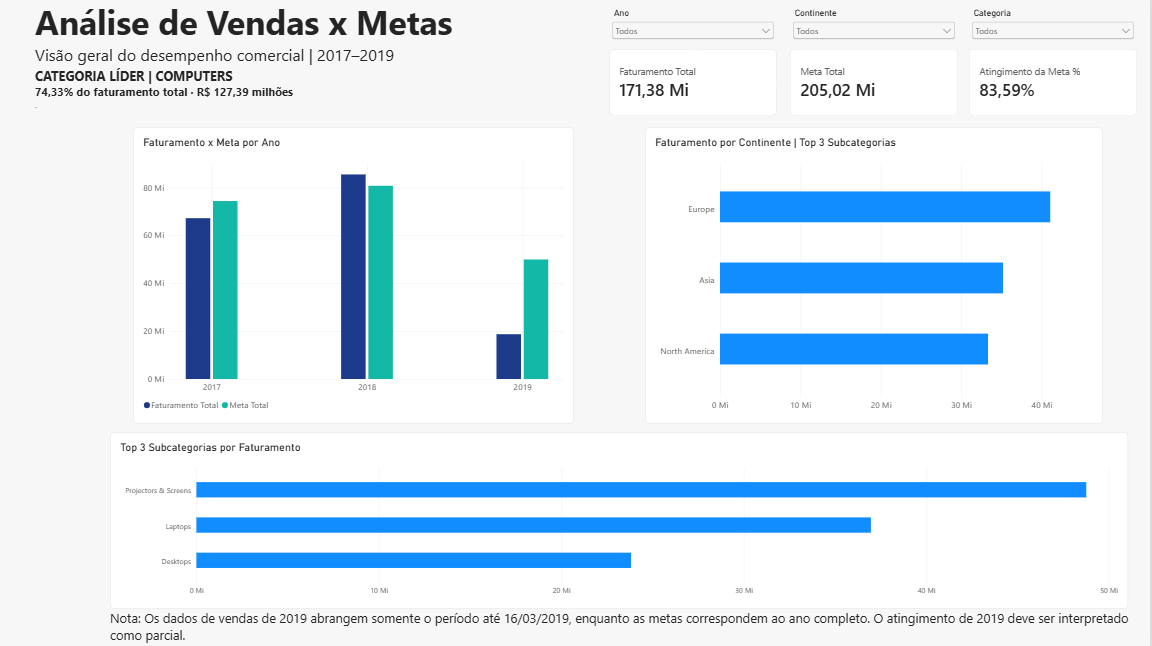

Layout of this report page (visuals, bound fields, positions):
{"tool":"powerbi","page":{"name":"01 - Visão Geral ","canvas":[1920,1080],"ordinal":0},"visuals":[{"type":"cardVisual","fields":{"Data":["Calendario.Faturamento Total"]},"box":[1018.3,83.3,280,111.7],"z":0},{"type":"cardVisual","fields":{"Data":["Calendario.Meta Total"]},"box":[1320,83.3,280,111.7],"z":1000},{"type":"cardVisual","fields":{"Data":["Calendario.Atingimento da Meta %"]},"box":[1618.3,83.3,280,111.7],"z":2000},{"type":"slicer","fields":{"Values":["DimAno.Ano"]},"box":[1018.3,15,280,86.7],"z":3000},{"type":"clusteredColumnChart","title":"Faturamento x Meta por Ano","fields":{"Category":["DimAno.Ano"],"Y":["Calendario.Faturamento Total","Calendario.Meta Total"]},"box":[225,213.3,735,495],"z":4000},{"type":"clusteredBarChart","title":"Faturamento por Continente | Top 3 Subcategorias","fields":{"Category":["DimContinente.Continente"],"Y":["Calendario.Faturamento Total"]},"box":[1078.3,213.3,763.3,495],"z":5000},{"type":"clusteredBarChart","title":"Top 3 Subcategorias por Faturamento","fields":{"Category":["Produto.Subcategoria"],"Y":["Calendario.Faturamento Total"]},"box":[186.7,721.7,1696.7,295],"z":6000},{"type":"slicer","fields":{"Values":["DimContinente.Continente"]},"box":[1320,15,280,68.3],"z":7000},{"type":"slicer","fields":{"Values":["DimCategoria.Categoria"]},"box":[1618.3,15,280,68.3],"z":8000},{"type":"textbox","box":[61.7,0,723.3,150],"z":9000},{"type":"textbox","box":[186.7,1016.7,1711.7,63.3],"z":10000},{"type":"textbox","box":[61.7,113.3,761.7,73.3],"z":10001}]}

Visuals, with their boxes in screenshot pixels (x1, y1, x2, y2), scaled from the page's 1920x1080 canvas onto the 1152x646 screenshot:
cardVisual - Calendario.Faturamento Total: <region>611, 50, 779, 117</region>
cardVisual - Calendario.Meta Total: <region>792, 50, 960, 117</region>
cardVisual - Calendario.Atingimento da Meta %: <region>971, 50, 1139, 117</region>
slicer - DimAno.Ano: <region>611, 9, 779, 61</region>
"Faturamento x Meta por Ano" clusteredColumnChart: <region>135, 128, 576, 424</region>
"Faturamento por Continente | Top 3 Subcategorias" clusteredBarChart: <region>647, 128, 1105, 424</region>
"Top 3 Subcategorias por Faturamento" clusteredBarChart: <region>112, 432, 1130, 608</region>
slicer - DimContinente.Continente: <region>792, 9, 960, 50</region>
slicer - DimCategoria.Categoria: <region>971, 9, 1139, 50</region>
textbox: <region>37, 0, 471, 90</region>
textbox: <region>112, 608, 1139, 645</region>
textbox: <region>37, 68, 494, 112</region>
